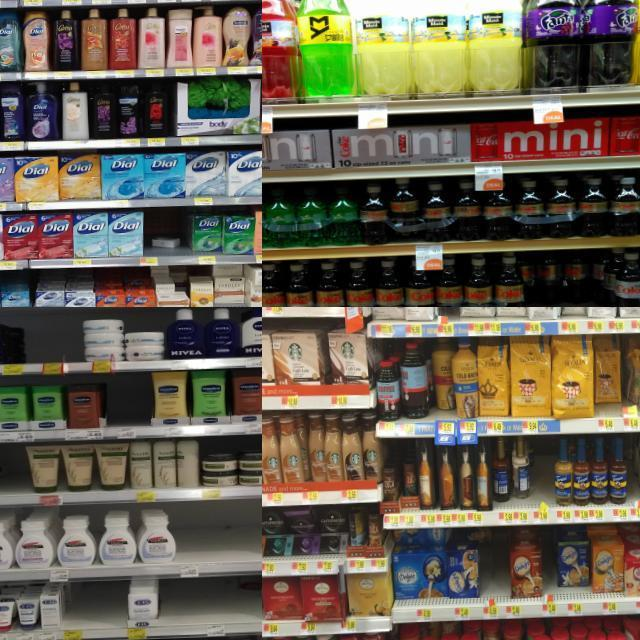Imprecise: (521, 249, 618, 309), (594, 337, 637, 416), (495, 440, 538, 510), (556, 536, 594, 602), (427, 340, 456, 423), (149, 228, 182, 252)
